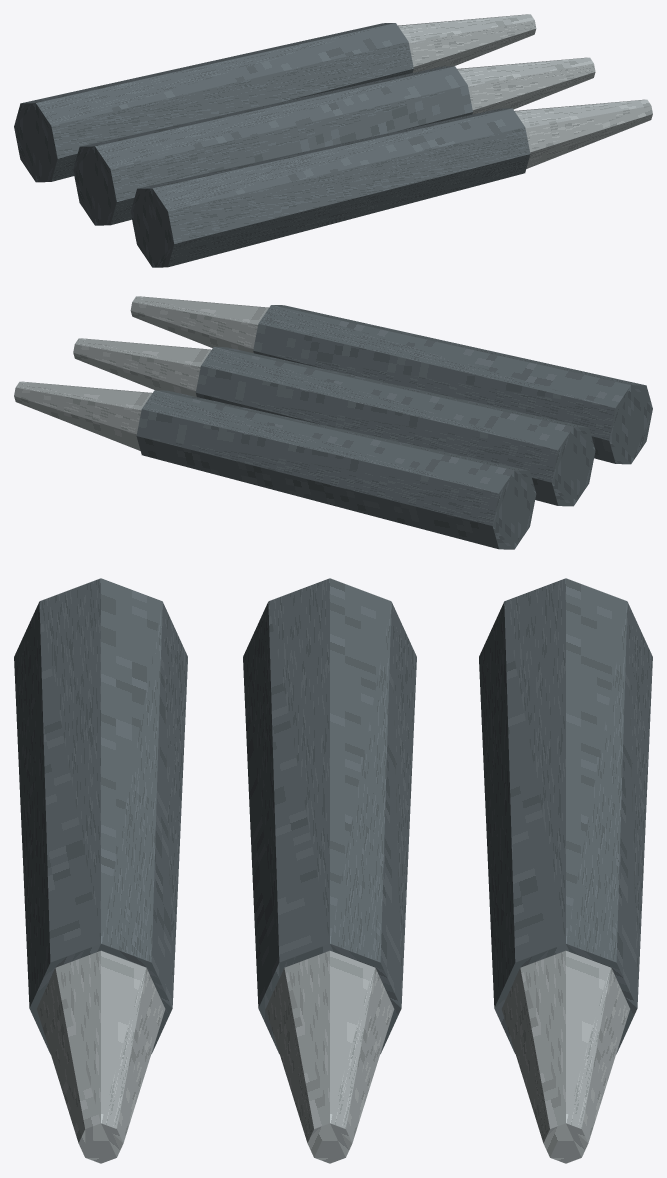
Rendered from drift.glb.
3 views of the same model, one above another, from view 1: azimuth 30°, elevation 25°; view 2: azimuth 150°, elevation 25°; view 3: azimuth 270°, elevation 25° (orthographic). The views are drawn at different scales.
Visible parts, largest first — view 1: block_hardened tool shaft (×3), block_tapered working tip (×3); view 2: block_hardened tool shaft (×3), block_tapered working tip (×3); view 3: block_hardened tool shaft (×3), block_tapered working tip (×3).
Part boxes in pixels (x1,y1,x2,y2): block_hardened tool shaft (×3): (14,23,530,267); block_tapered working tip (×3): (398,14,652,168); block_hardened tool shaft (×3): (136,305,652,549); block_tapered working tip (×3): (14,296,268,450); block_hardened tool shaft (×3): (14,578,652,1054); block_tapered working tip (×3): (37,950,629,1163).
Bounding box in the file's own units: 0.4 × 0.0611 × 0.2243.
1 material, 1 textured.
